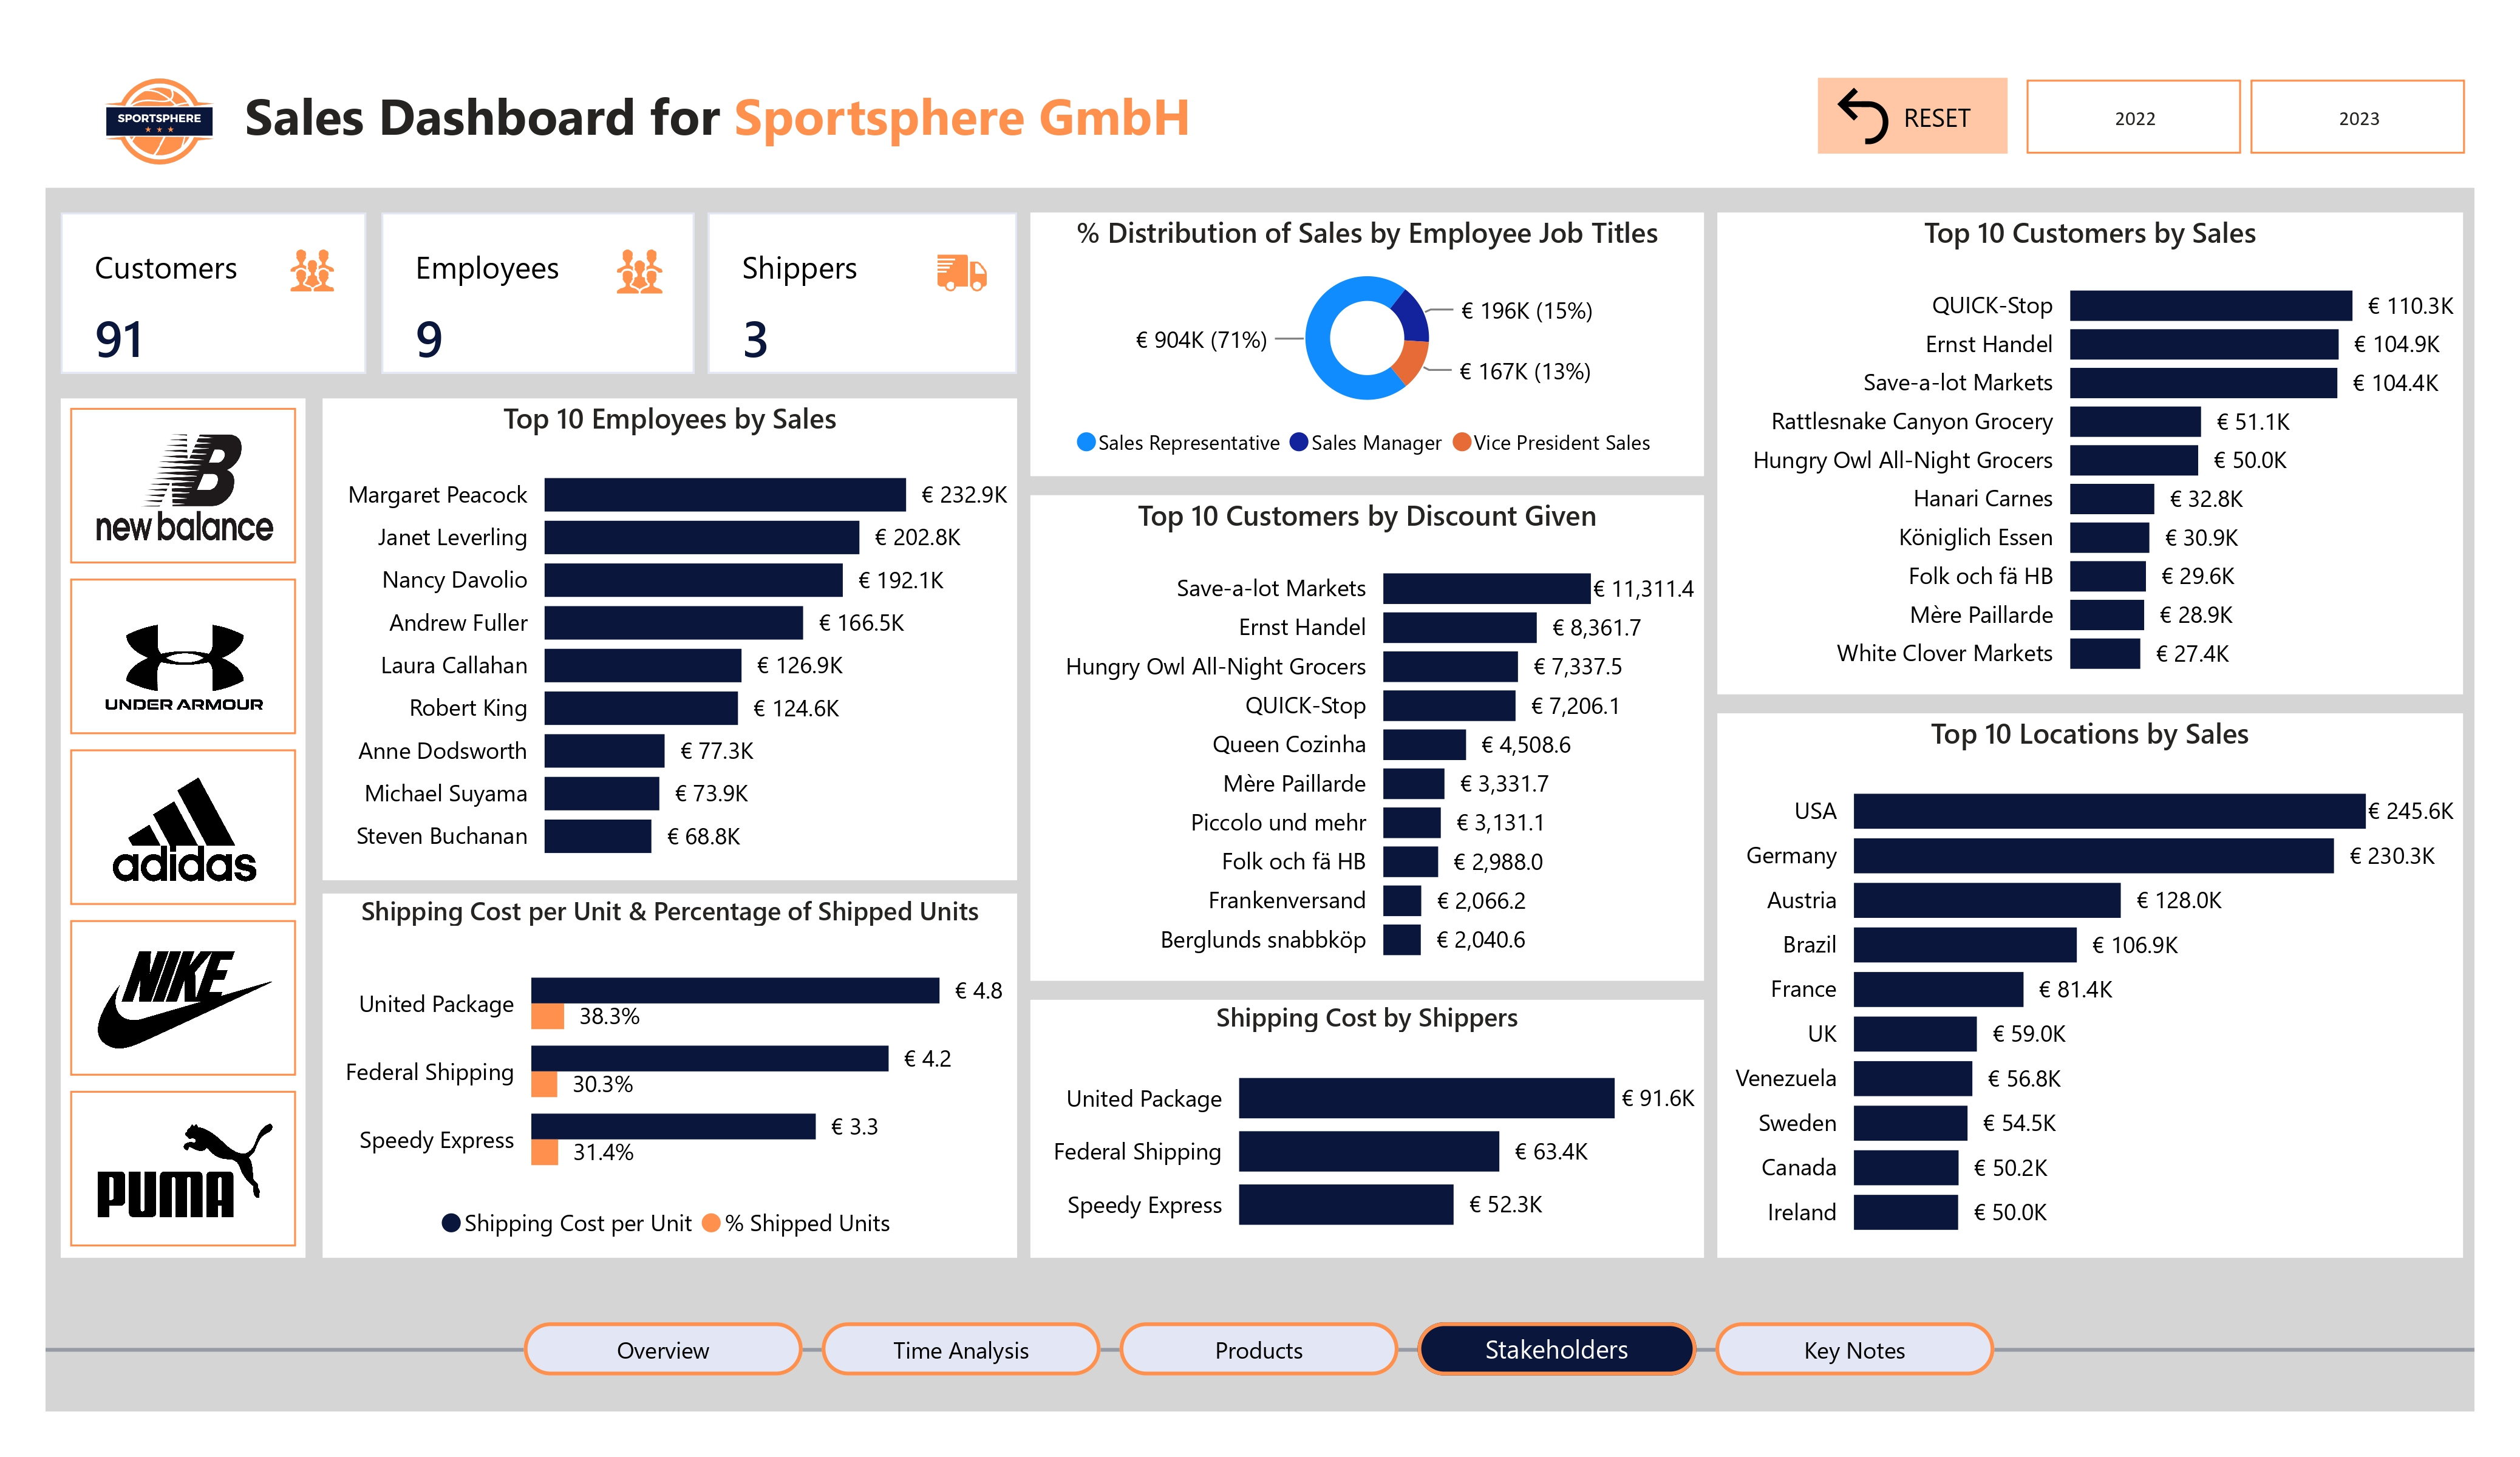

The dashboard page shown, as its layout file describes it:
{"tool":"powerbi","page":{"name":"Stakeholders","canvas":[1280,720],"ordinal":3},"visuals":[{"type":"shape","box":[0,667.3,1280,40.9],"z":0},{"type":"shape","box":[0,0,1280,74.9],"z":1000},{"type":"image","box":[0,4.9,119.6,70],"z":2000},{"type":"textbox","box":[100.2,12.6,536.9,54.5],"z":3000},{"type":"advancedSlicerVisual","fields":{"Values":["Calendar.Year"]},"box":[1038.8,12.6,241.2,49.6],"z":4000},{"type":"pageNavigator","box":[252.4,673.1,775.2,28.2],"z":5000},{"type":"advancedSlicerVisual","fields":{"Values":["Brand Logos.Logo URL"]},"box":[7.8,185.8,129.4,453.3],"z":6000},{"type":"clusteredBarChart","title":"Top 10 Locations by Sales","fields":{"Category":["customers.Country"],"Y":["orders.Total Sales"]},"box":[881,352,393,287],"z":7000},{"type":"donutChart","title":"% Distribution of Sales by Employee Job Titles","fields":{"Y":["orders.Total Sales"],"Category":["employees.Title"]},"box":[519.4,87.5,355,139.1],"z":8000},{"type":"cardVisual","fields":{"Data":["orders.Total Customers"]},"box":[8,88,161,85],"z":9000},{"type":"cardVisual","fields":{"Data":["orders.Total Sales Reps"]},"box":[177,88,165,85],"z":10000},{"type":"cardVisual","fields":{"Data":["CountNonNull(shippers.Shipper ID)"]},"box":[349,88,163,85],"z":11000},{"type":"clusteredBarChart","title":"Top 10 Customers by Sales","fields":{"Y":["orders.Total Sales"],"Category":["customers.Company Name"]},"box":[881,88,393,254],"z":12000},{"type":"clusteredBarChart","title":"Top 10 Employees by Sales","fields":{"Y":["orders.Total Sales"],"Category":["employees.Employee Name"]},"box":[146,186,366,254],"z":13000},{"type":"clusteredBarChart","title":"Shipping Cost per Unit & Percentage of Shipped Units","fields":{"Category":["shippers.Shipping Company"],"Y":["orders.Shipping Cost per Unit","orders.Shipped Units"]},"box":[146,447,366,192],"z":14000},{"type":"clusteredBarChart","title":"Shipping Cost by Shippers","fields":{"Category":["shippers.Shipping Company"],"Y":["orders.Total Shipping Cost"]},"box":[519.4,502.9,355,136.2],"z":15000},{"type":"clusteredBarChart","title":"Top 10 Customers by Discount Given","fields":{"Y":["orders.Discount Cost"],"Category":["customers.Company Name"]},"box":[519.4,237.3,355,255.8],"z":16000},{"type":"actionButton","box":[934,17,100,40],"z":17000},{"type":"cardVisual","fields":{"Data":["orders.Total Shipping Cost"]},"box":[637.1,298.6,296.7,113.8],"z":17001}]}

Visuals, with their boxes on the page's 1280x720 design canvas (x1, y1, x2, y2). These are canvas units, not pixel positions in the 2520x1457 screenshot, which may show the page scaled, cropped or inside an application window:
shape: 0:667:1280:708
shape: 0:0:1280:75
image: 0:5:120:75
textbox: 100:13:637:67
advancedSlicerVisual - Calendar.Year: 1039:13:1280:62
pageNavigator: 252:673:1028:701
advancedSlicerVisual - Brand Logos.Logo URL: 8:186:137:639
"Top 10 Locations by Sales" clusteredBarChart: 881:352:1274:639
"% Distribution of Sales by Employee Job Titles" donutChart: 519:88:874:227
cardVisual - orders.Total Customers: 8:88:169:173
cardVisual - orders.Total Sales Reps: 177:88:342:173
cardVisual - CountNonNull(shippers.Shipper ID): 349:88:512:173
"Top 10 Customers by Sales" clusteredBarChart: 881:88:1274:342
"Top 10 Employees by Sales" clusteredBarChart: 146:186:512:440
"Shipping Cost per Unit & Percentage of Shipped Units" clusteredBarChart: 146:447:512:639
"Shipping Cost by Shippers" clusteredBarChart: 519:503:874:639
"Top 10 Customers by Discount Given" clusteredBarChart: 519:237:874:493
actionButton: 934:17:1034:57
cardVisual - orders.Total Shipping Cost: 637:299:934:412
